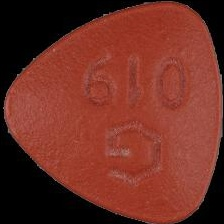68151-1021: (0, 0, 224, 224)
